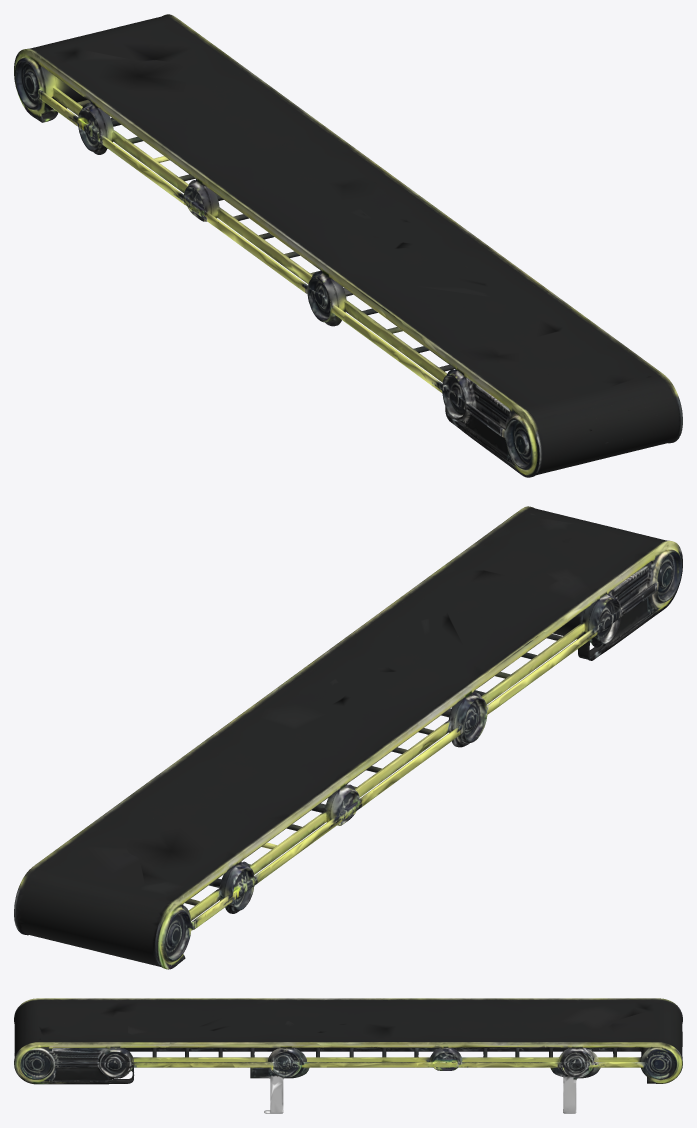
The model's file is conveyor.glb.
3 renders of one model, top to bottom at view 1: azimuth 30°, elevation 25°; view 2: azimuth 150°, elevation 25°; view 3: azimuth 270°, elevation 25°, orthographic. The views are drawn at different scales.
Parts seen in each view (by area): view 1: material; view 2: material; view 3: material.
Boxes of the visible parts, x1,y1,x2,y2 form: material: [14, 14, 682, 477]; material: [14, 506, 682, 969]; material: [14, 998, 682, 1113].
Bounding box in the file's own units: 0.204 × 0.1388 × 1.18.
Materials: 1 (1 with a texture image).
